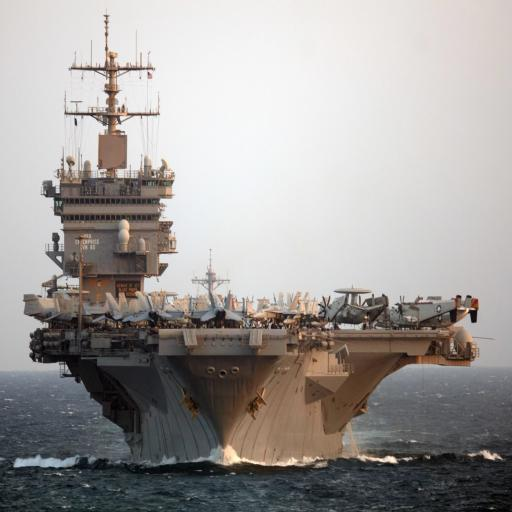Portanaves: (22, 8, 484, 471)
